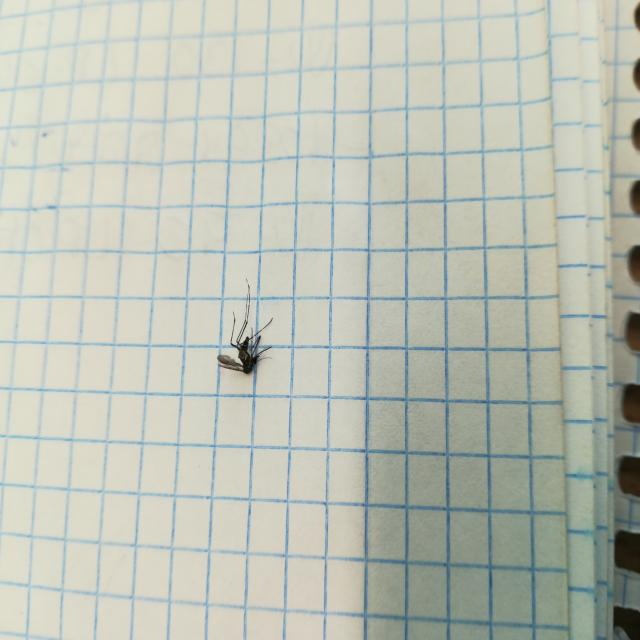albopictus: (206, 265, 286, 386)
